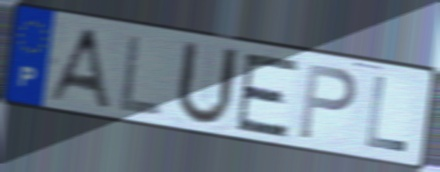A: (42, 25, 113, 112)
E: (232, 52, 303, 141)
L: (116, 31, 166, 119), (363, 73, 409, 155)
P: (296, 61, 360, 143)
U: (172, 37, 242, 130)
